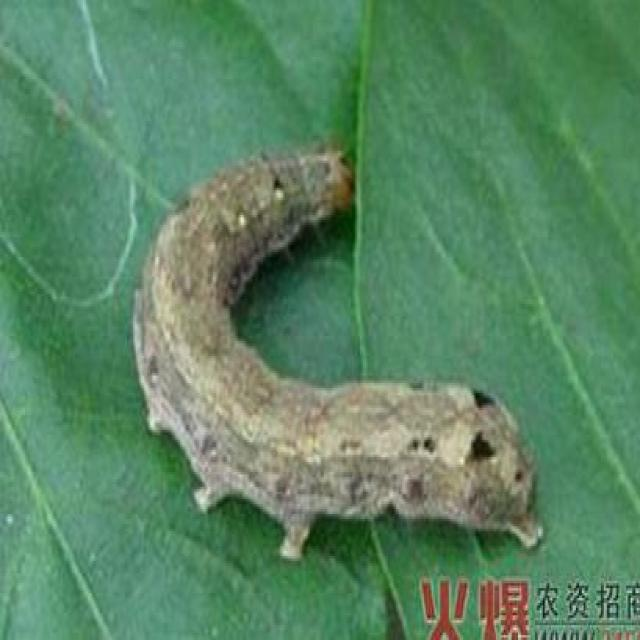BeetArmyWorm-Larva-: (121, 145, 554, 552)
